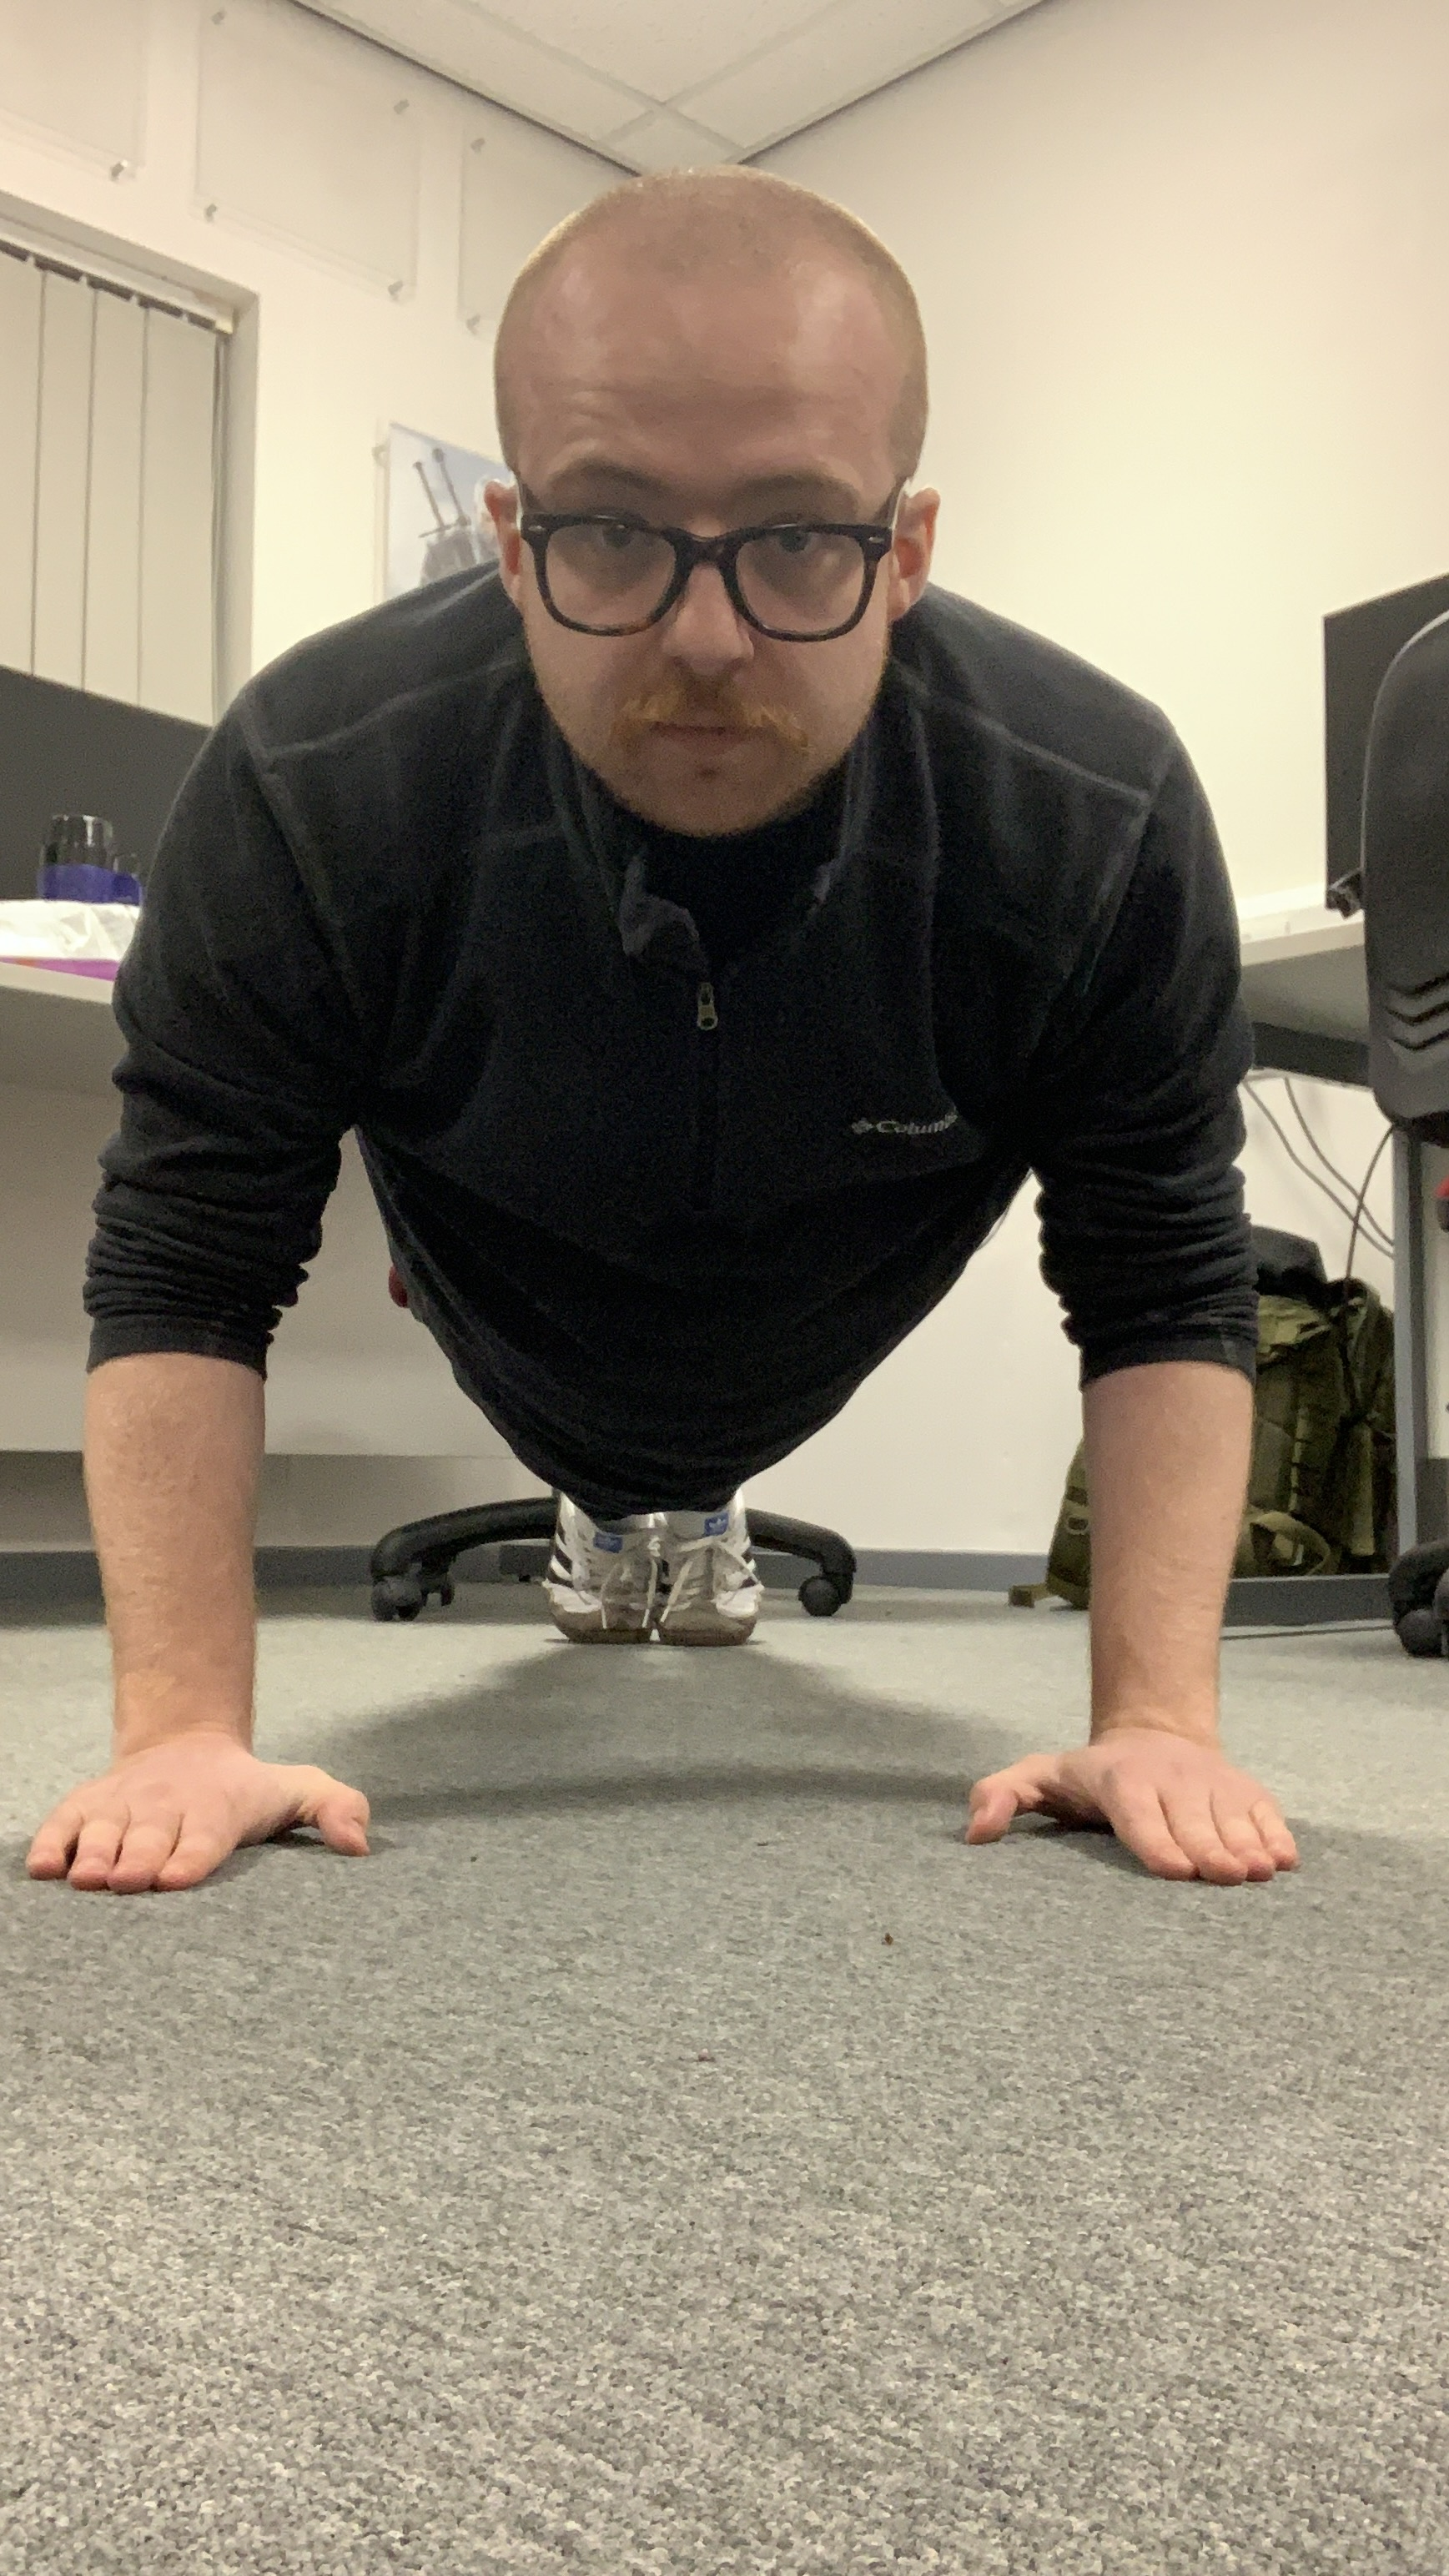Start: (7, 168, 1343, 1900)
